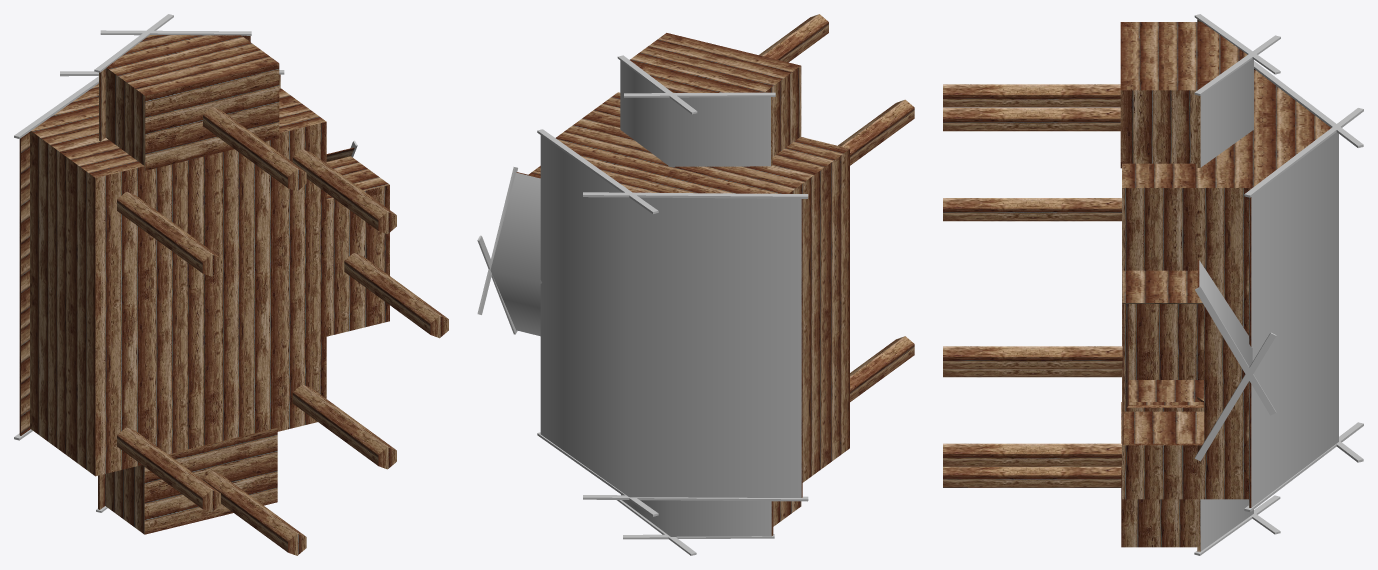
The model's file is barracks.fbx.
The picture shows the model from 3 angles, left to right: view 1: azimuth 30°, elevation 25°; view 2: azimuth 150°, elevation 25°; view 3: azimuth 270°, elevation 25°; orthographic projection. The views are drawn at different scales.
Visible parts, largest first — view 1: Barracks; view 2: Barracks; view 3: Barracks.
Part boxes in pixels (x1=…): Barracks: x1=14, y1=14, x2=448, y2=555; Barracks: x1=477, y1=14, x2=914, y2=555; Barracks: x1=943, y1=14, x2=1363, y2=555.
Size of the model in its own units: 10.46 by 13.93 by 11.52.
